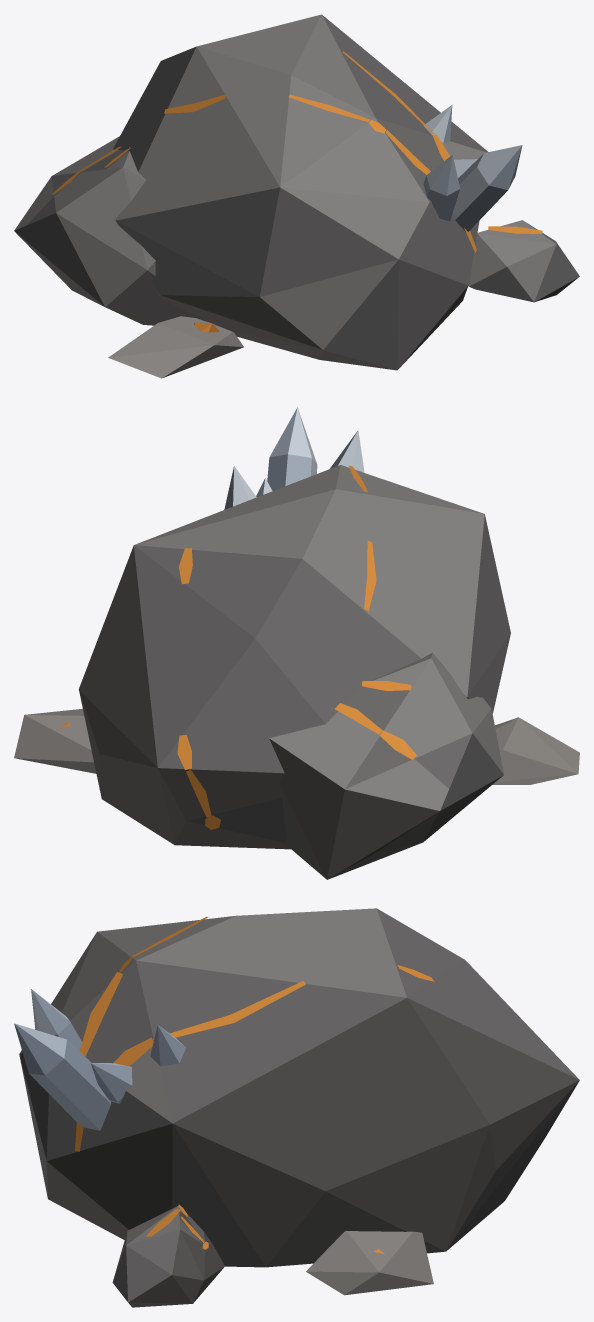
File: rock_lava_0.glb
3 renders of one model, top to bottom at view 1: azimuth 30°, elevation 25°; view 2: azimuth 150°, elevation 25°; view 3: azimuth 270°, elevation 25°, orthographic. The views are drawn at different scales.
Visible parts, largest first — view 1: Body; view 2: Body; view 3: Body.
Boxes of the visible parts, box(x1,y1,x2,y2) form: Body: box(14, 14, 579, 378); Body: box(14, 407, 579, 879); Body: box(14, 908, 579, 1307).
Size of the model in its own units: 3.78 by 1.96 by 3.71.
